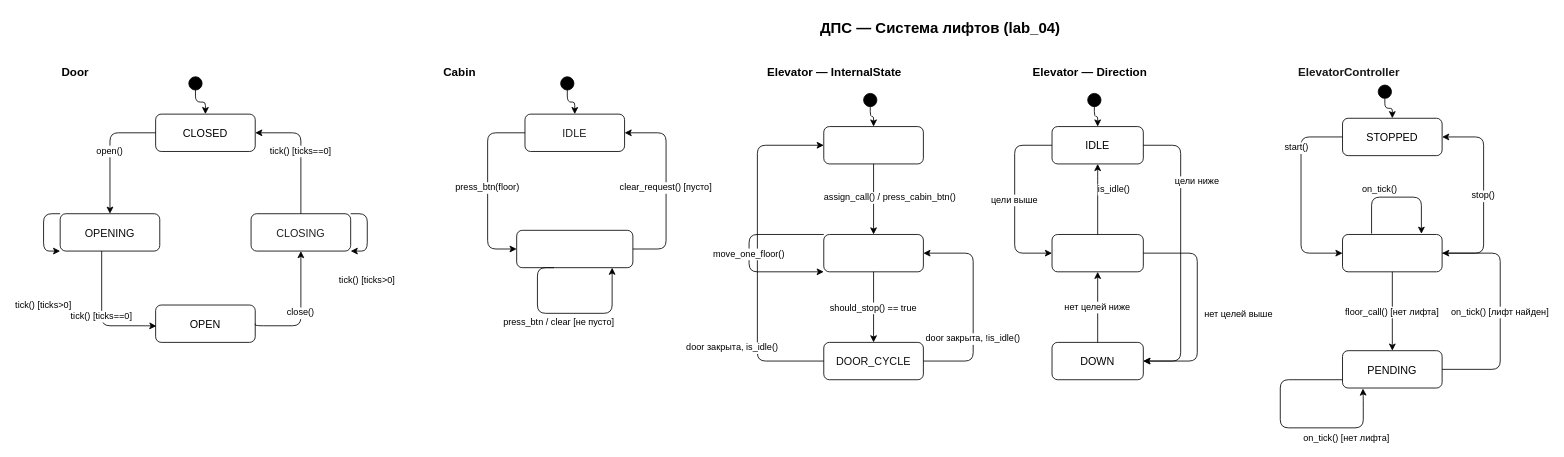
Some shapes in this 1564 by 457 pixel diagram are drawn without their labels. Each missing label, with the centre of its shape:
HAS_REQUESTS: the point at 574,248
MOVING: the point at 873,253
RUNNING: the point at 1392,253
UP: the point at 1097,253
WAITING: the point at 873,145
